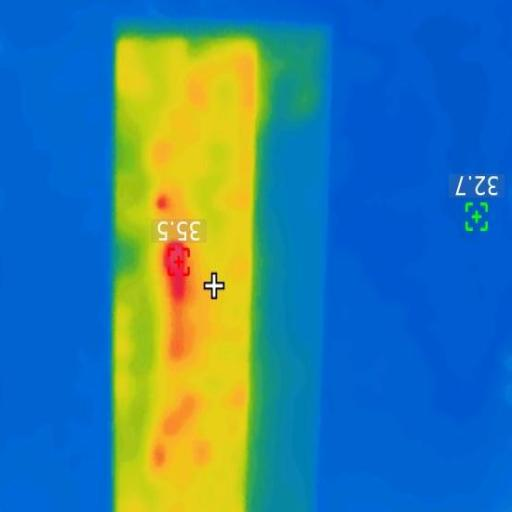hotspot: (165, 245, 189, 278), (158, 199, 169, 210)
